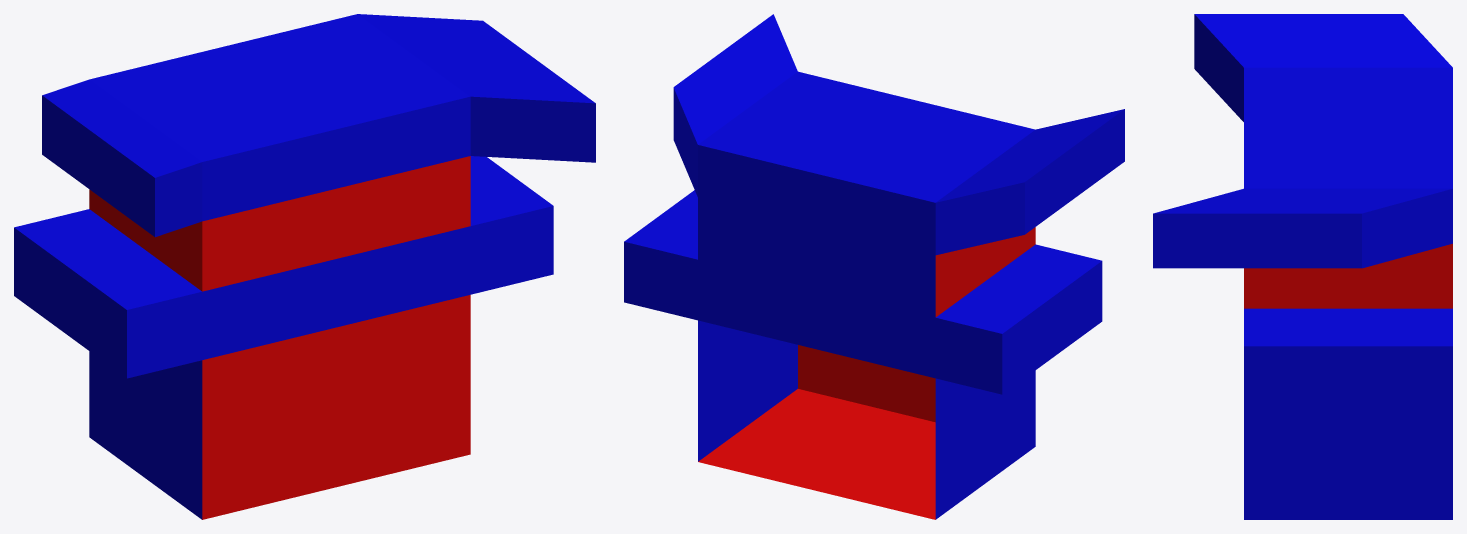
The model's file is TestCube.fbx.
The picture shows the model from 3 angles, left to right: view 1: azimuth 30°, elevation 25°; view 2: azimuth 150°, elevation 25°; view 3: azimuth 270°, elevation 25°; orthographic projection. The views are drawn at different scales.
Parts seen in each view (by area): view 1: pCube1; view 2: pCube1; view 3: pCube1.
Boxes of the visible parts, box(x1,y1,x2,y2) form: pCube1: box(14, 14, 595, 519); pCube1: box(624, 14, 1124, 519); pCube1: box(1153, 14, 1452, 519).
Size of the model in its own units: 19.61 by 16.67 by 12.89.
